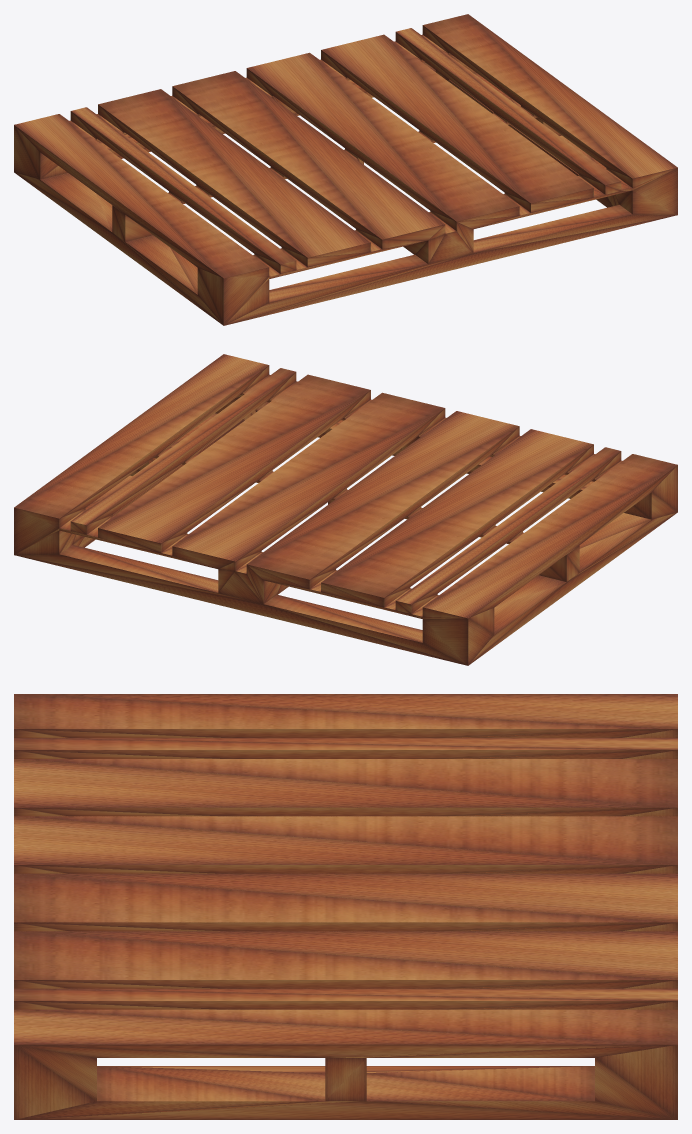
Rendered from tarima.glb.
The picture shows the model from 3 angles, top to bottom: view 1: azimuth 30°, elevation 25°; view 2: azimuth 150°, elevation 25°; view 3: azimuth 270°, elevation 25°; orthographic projection. The views are drawn at different scales.
Visible parts, largest first — view 1: Tarima; view 2: Tarima; view 3: Tarima.
Boxes of the visible parts, x1=… form: Tarima: x1=14, y1=14, x2=677, y2=325; Tarima: x1=14, y1=354, x2=677, y2=665; Tarima: x1=14, y1=694, x2=677, y2=1119.
Size of the model in its own units: 40 by 4 by 32.
1 material, 1 textured.
